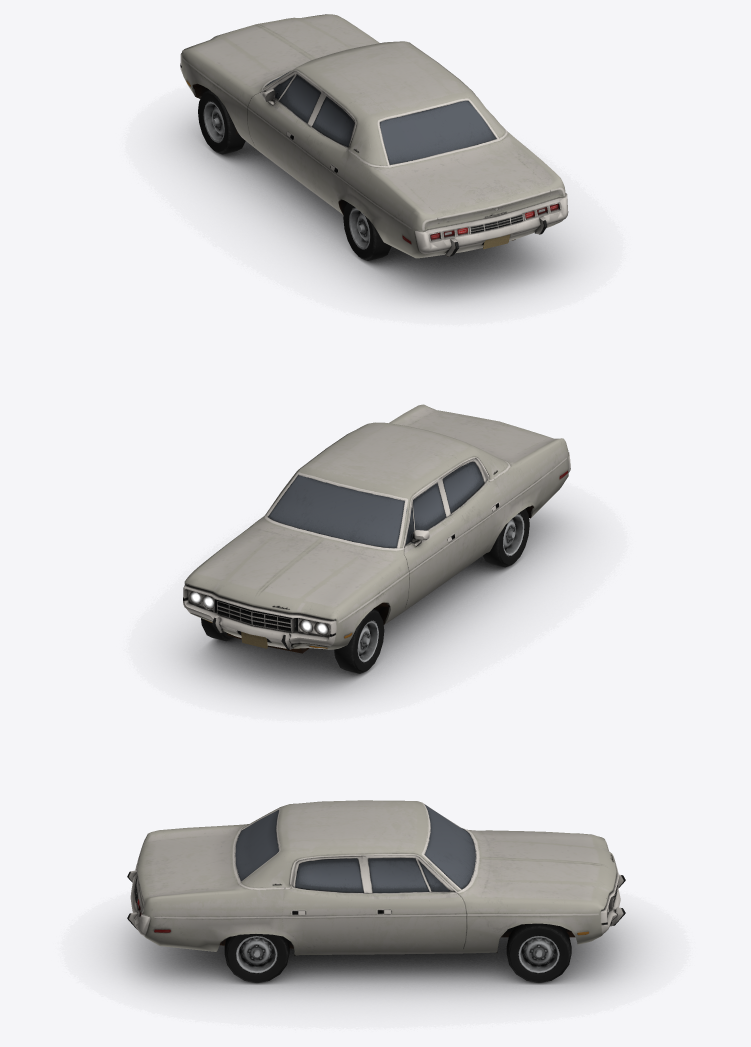
Rendered from lowpoly_car5.glb.
The picture shows the model from 3 angles, top to bottom: view 1: azimuth 30°, elevation 25°; view 2: azimuth 150°, elevation 25°; view 3: azimuth 270°, elevation 25°; orthographic projection. The views are drawn at different scales.
Parts seen in each view (by area): view 1: Object002_Material #23_0, Plane001; view 2: Object002_Material #23_0, Plane001; view 3: Object002_Material #23_0, Plane001.
Part boxes in pixels (<box>): Object002_Material #23_0: <box>180,14,568,260</box>; Plane001: <box>177,113,571,304</box>; Object002_Material #23_0: <box>183,404,570,673</box>; Plane001: <box>180,505,574,699</box>; Object002_Material #23_0: <box>127,800,625,982</box>; Plane001: <box>115,921,637,997</box>.
Bounding box in the file's own units: 479 × 172 × 882.
2 materials, 2 textured.
